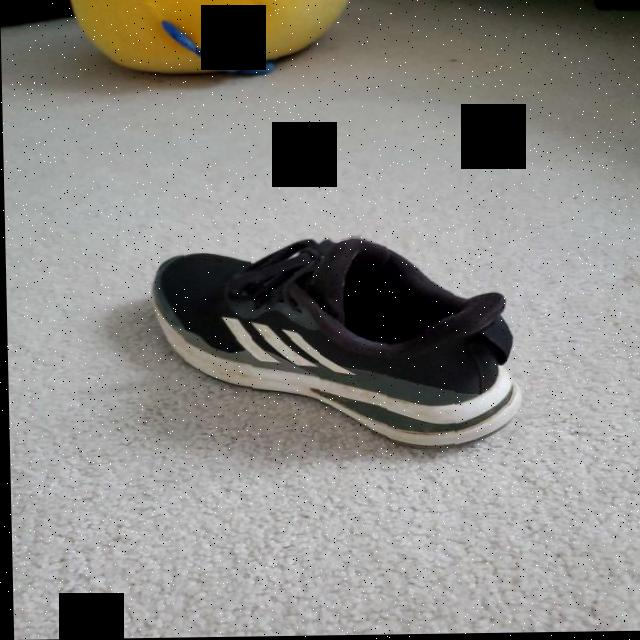shoe: (148, 233, 526, 454)
